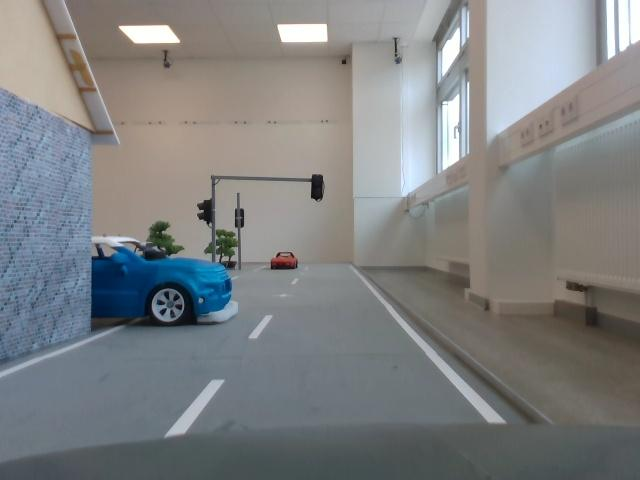building: (2, 2, 99, 345)
car: (89, 241, 249, 327), (271, 249, 301, 273)
potted plant: (146, 218, 188, 261), (207, 230, 230, 264), (225, 232, 238, 273)
traffic light: (310, 175, 326, 201), (199, 200, 217, 221), (234, 207, 248, 230)
